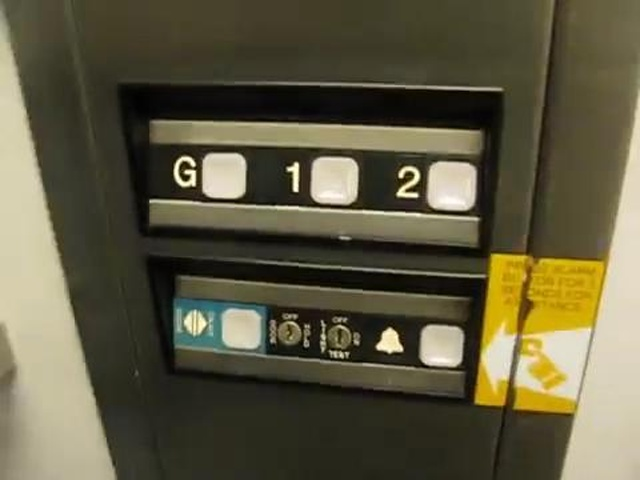1: (270, 144, 368, 212)
2: (384, 149, 486, 219)
G: (164, 140, 255, 207)
alarm: (369, 312, 472, 377)
keyhole: (277, 319, 303, 346), (328, 324, 350, 349)
open: (169, 296, 270, 357)
